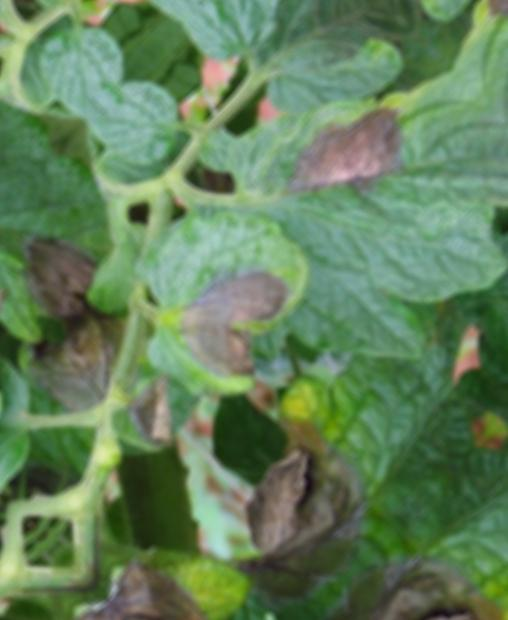Tomato leaf late blight: (160, 0, 508, 417), (155, 287, 508, 620), (98, 168, 346, 416), (95, 495, 276, 620), (0, 291, 70, 471)
